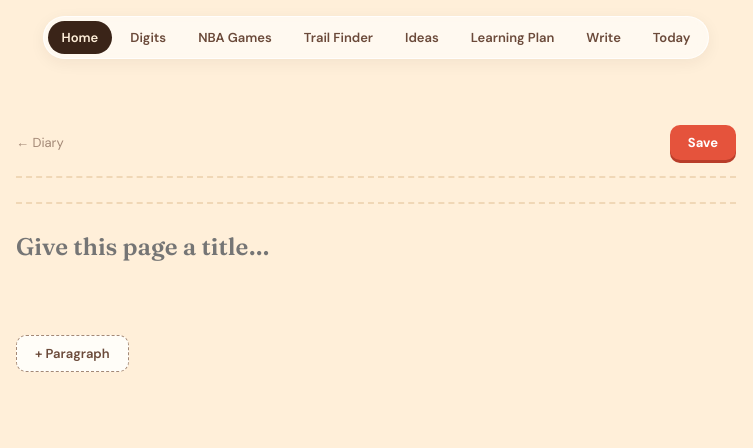
Test case: shows the re-auth banner (not a generic failure) when the server returns 401 on save
Type "My entry" into the field with placeholder "Give this page a title…" at (376, 248), box x1=16 y1=220 x2=736 y2=275
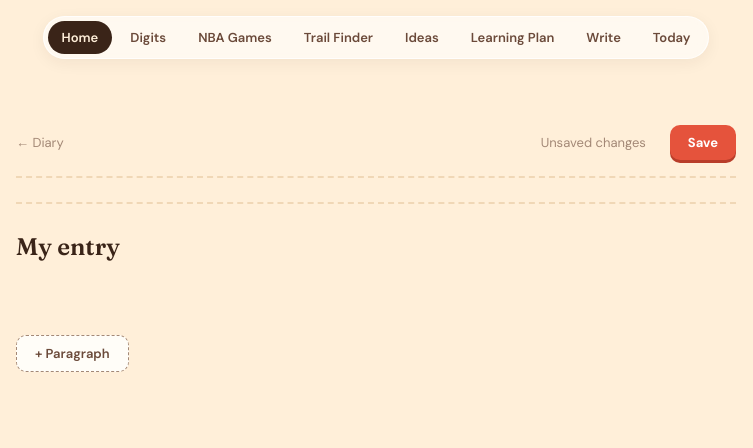
Click the button "Save" at (703, 142), box x1=670 y1=125 x2=736 y2=160
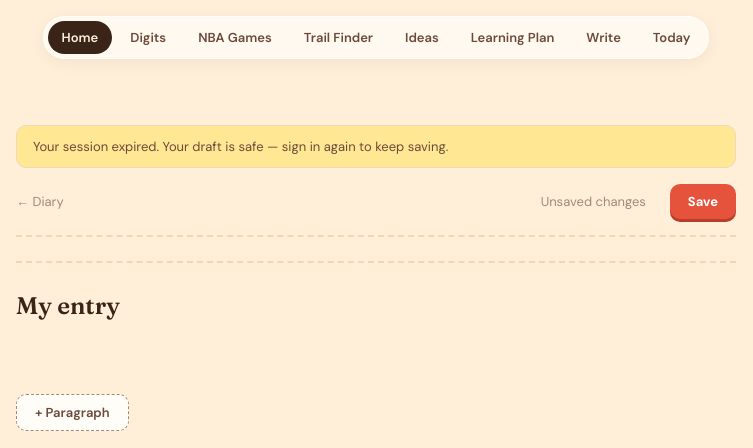
Check: the text "session expired" is shown, box x1=33 y1=138 x2=448 y2=155
